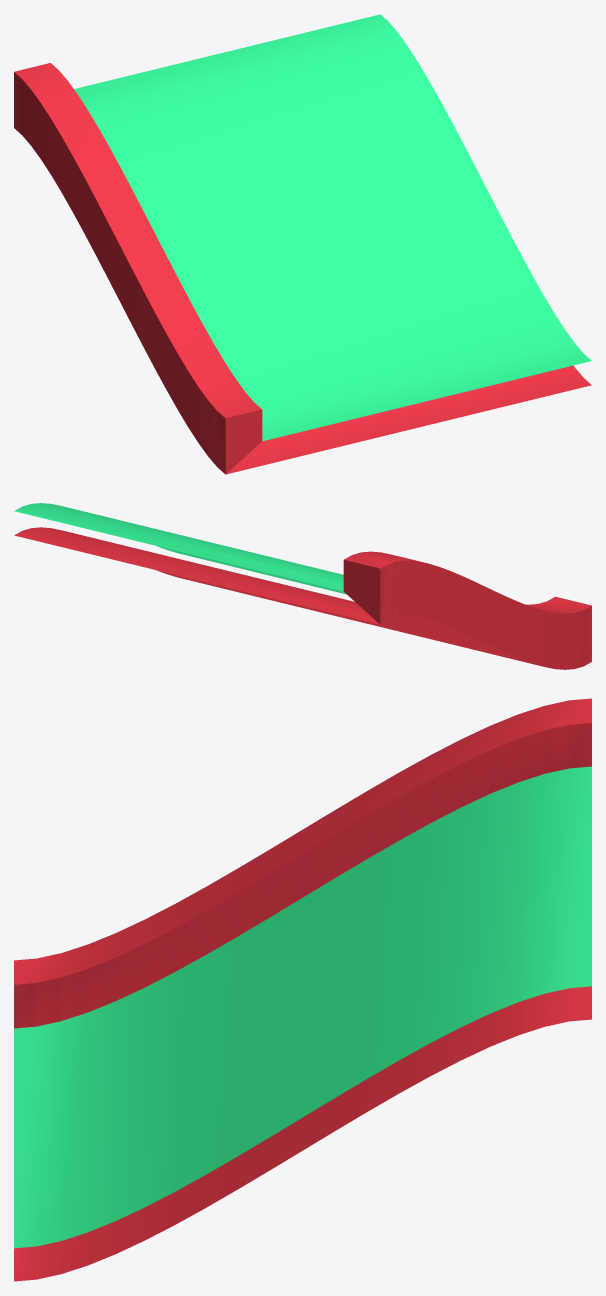
Rendered from rampSide.fbx.
3 renders of one model, top to bottom at view 1: azimuth 30°, elevation 25°; view 2: azimuth 150°, elevation 25°; view 3: azimuth 270°, elevation 25°, orthographic. The views are drawn at different scales.
Visible parts, largest first — view 1: rampSide; view 2: rampSide; view 3: rampSide.
Part boxes in pixels (x1,y1,x2,y2): rampSide: (14, 14, 591, 474); rampSide: (14, 503, 591, 669); rampSide: (14, 698, 591, 1281).
Bounding box in the file's own units: 99.99 × 99.99 × 64.67.
